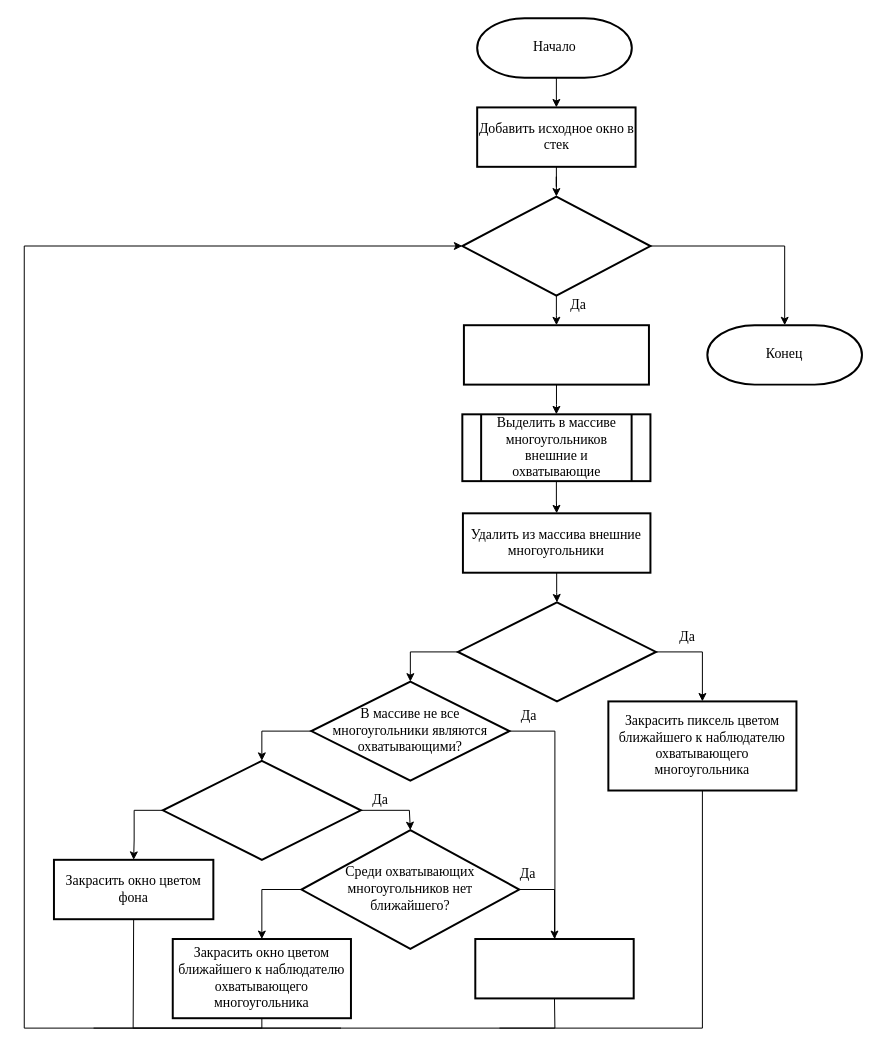
The diagram is 880 pixels wide and 1053 high, and some of its shapes have lost their labels. The shapes that lost their labels are listed below. From the top down, each one's centre as x and y in pixels, then its label:
(556,245): Стек не пуст?
(555,354): Извлечь окно из стека
(556,651): Площадь окна равна одному пикселю?
(261,809): В массиве есть охватывающие многоугольники?
(554,968): Разбить окно на подокна и добавить их в стек
